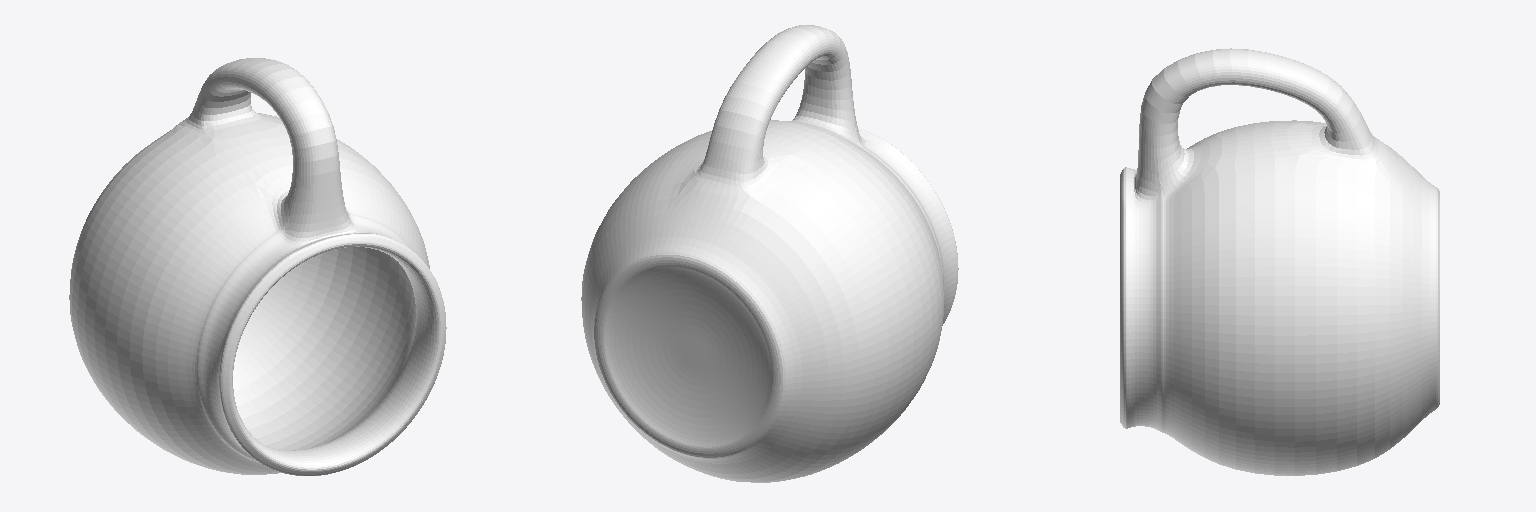
The model's file is mug.obj.
3 views of the same model, side by side, from view 1: azimuth 30°, elevation 25°; view 2: azimuth 150°, elevation 25°; view 3: azimuth 270°, elevation 25° (orthographic).
Bounding box in the file's own units: 0.1118 × 0.1412 × 0.1008.